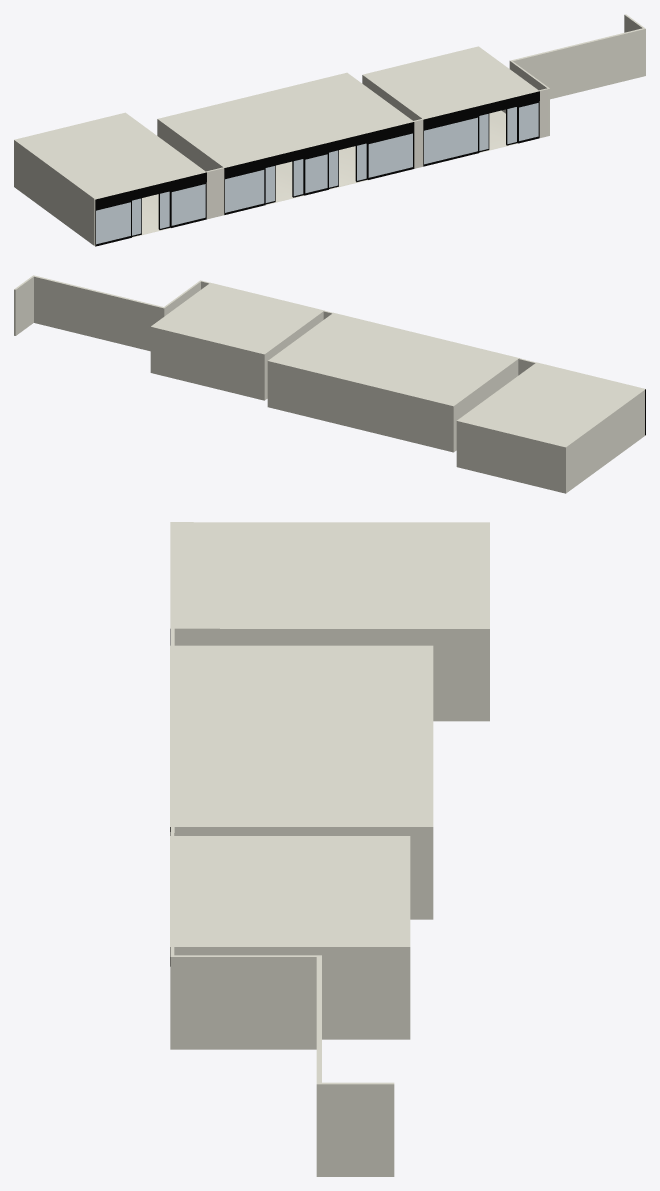
Rendered from Shop 5.FBX.
3 renders of one model, top to bottom at view 1: azimuth 30°, elevation 25°; view 2: azimuth 150°, elevation 25°; view 3: azimuth 270°, elevation 25°, orthographic. The views are drawn at different scales.
Parts seen in each view (by area): view 1: shop 5; view 2: shop 5; view 3: shop 5.
Boxes of the visible parts, bbox=[...] form: shop 5: bbox=[14, 14, 645, 246]; shop 5: bbox=[14, 275, 645, 493]; shop 5: bbox=[170, 522, 489, 1176].
Bounding box in the file's own units: 2177 × 167 × 524.
1 material, 1 textured.
